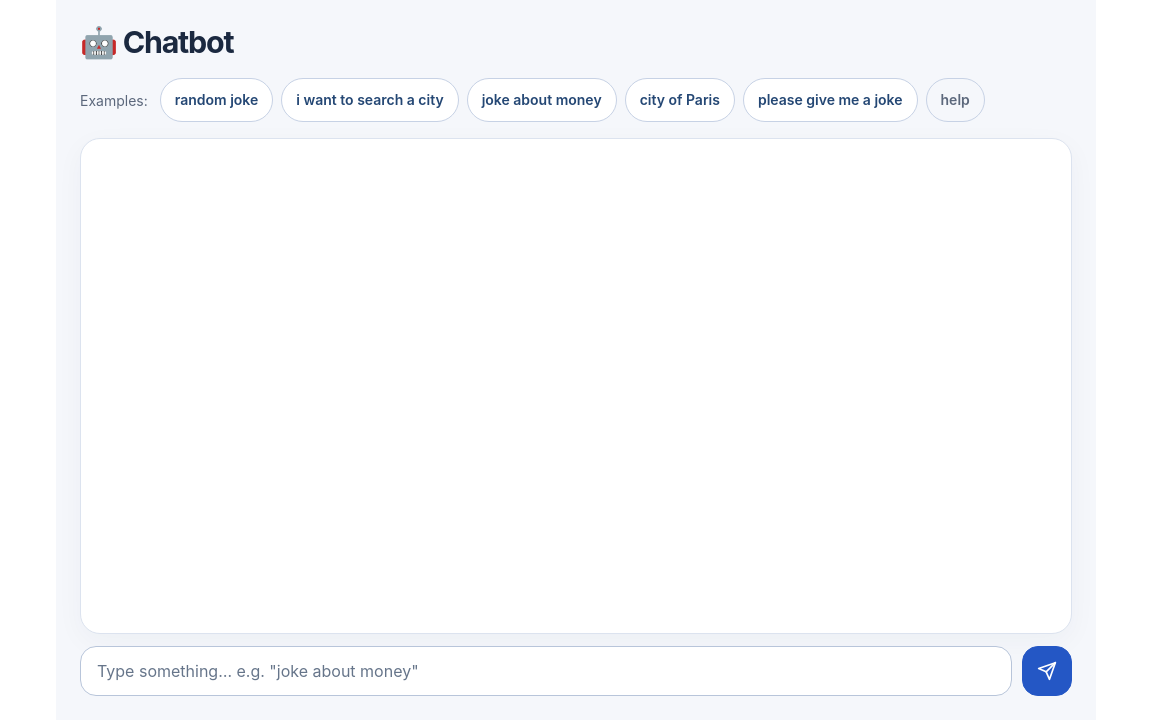
Test: shows a pending bubble only during the request and replaces it with the reply
In the field named "Chat message": (546, 671) [80, 646, 1012, 696], type "Find the movie The Matrix"
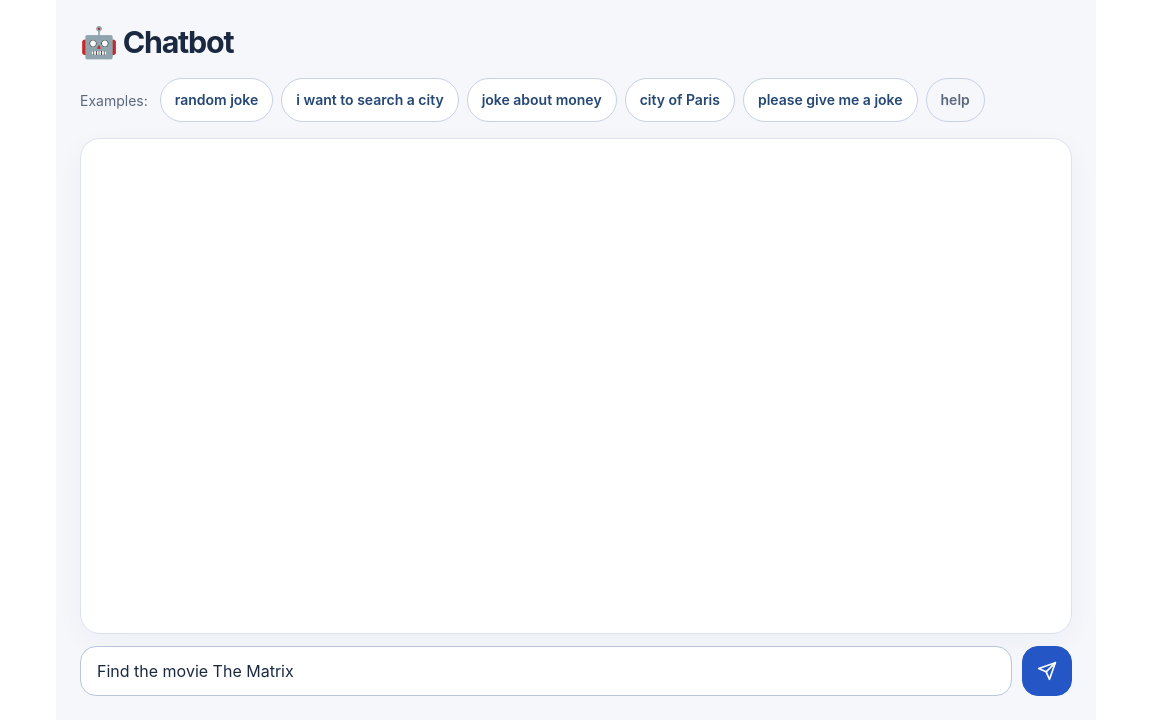
Press Enter in the field named "Chat message", box [80, 646, 1012, 696]
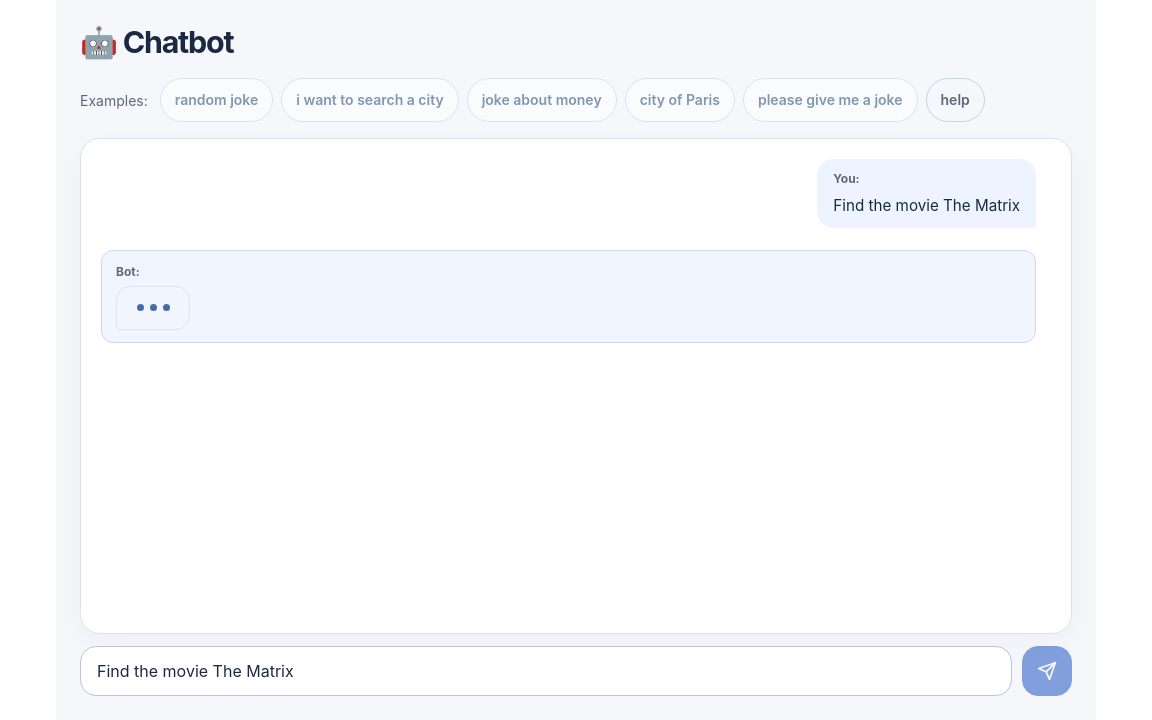
Now the message named "Bot is responding" is shown, box [101, 250, 1036, 343]
Press Enter in the field named "Chat message", box [80, 646, 1012, 696]
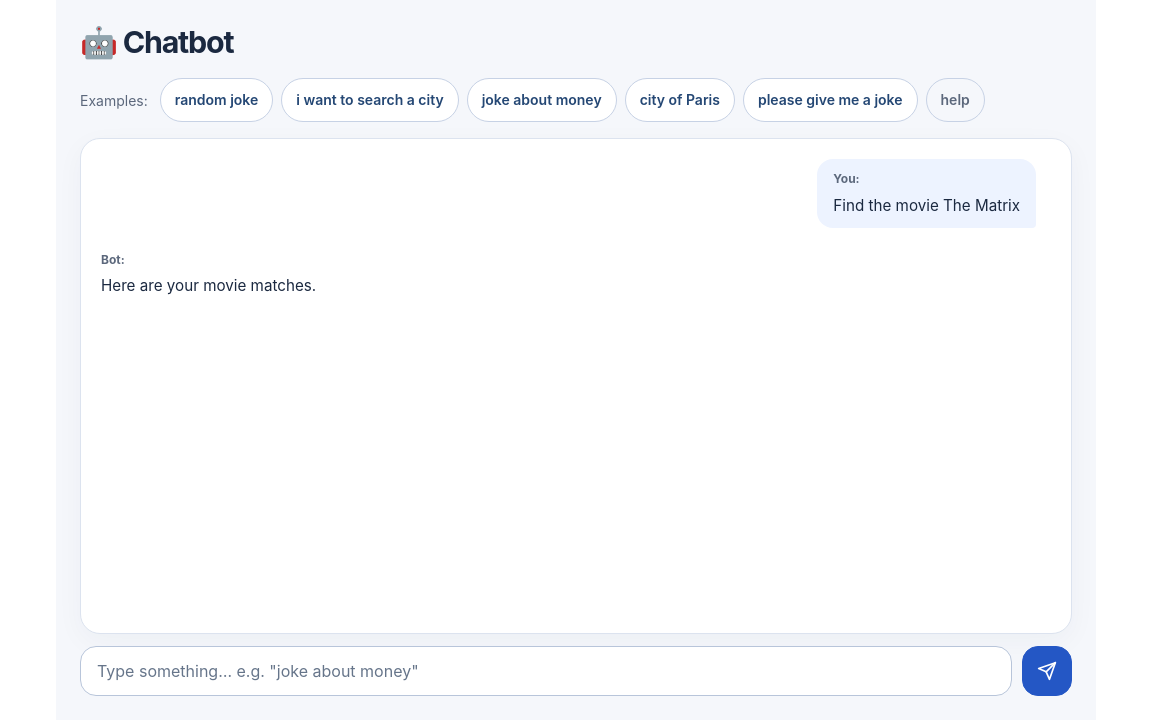
Now the text "Here are your movie matches." is shown, box [101, 276, 316, 295]
